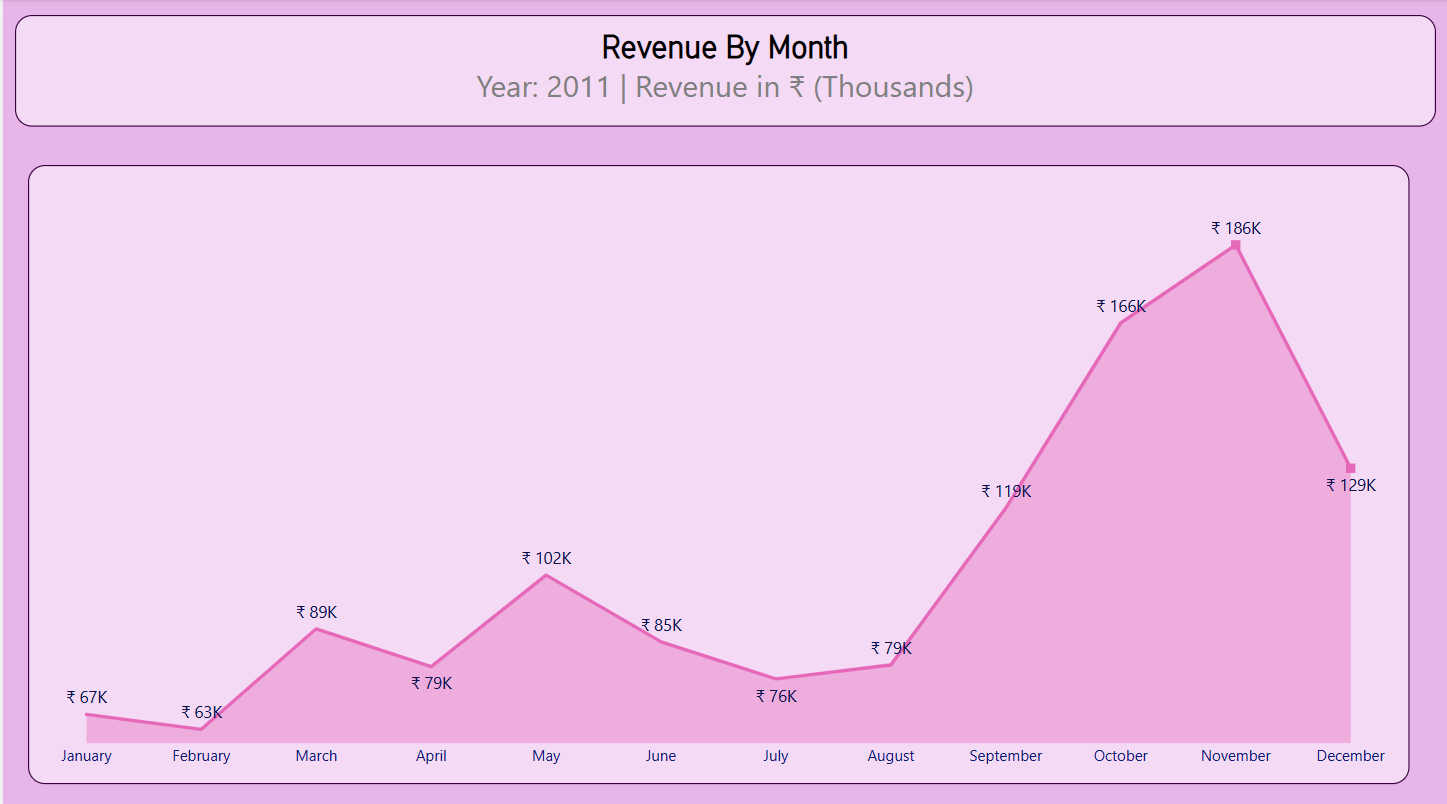

This screenshot's page, from the dashboard's own definition file:
{"tool":"powerbi","page":{"name":"Task 1","canvas":[1280,720],"ordinal":0},"visuals":[{"type":"textbox","box":[10.7,14.6,1259.6,99.2],"z":0},{"type":"lineChart","fields":{"Y":["Sum(Online Retail.UnitPrice)"],"Category":["Online Retail.InvoiceDate.Variation.Date Hierarchy.Month"]},"box":[22.4,146.9,1224.6,548.6],"z":2001}]}

Visuals, with their boxes in screenshot pixels (x1, y1, x2, y2), scaled from the page's 1280x720 canvas onto the 1447x804 screenshot:
textbox: {"x1": 12, "y1": 16, "x2": 1436, "y2": 127}
lineChart - Sum(Online Retail.UnitPrice) x Online Retail.InvoiceDate.Variation.Date Hierarchy.Month: {"x1": 25, "y1": 164, "x2": 1410, "y2": 777}
